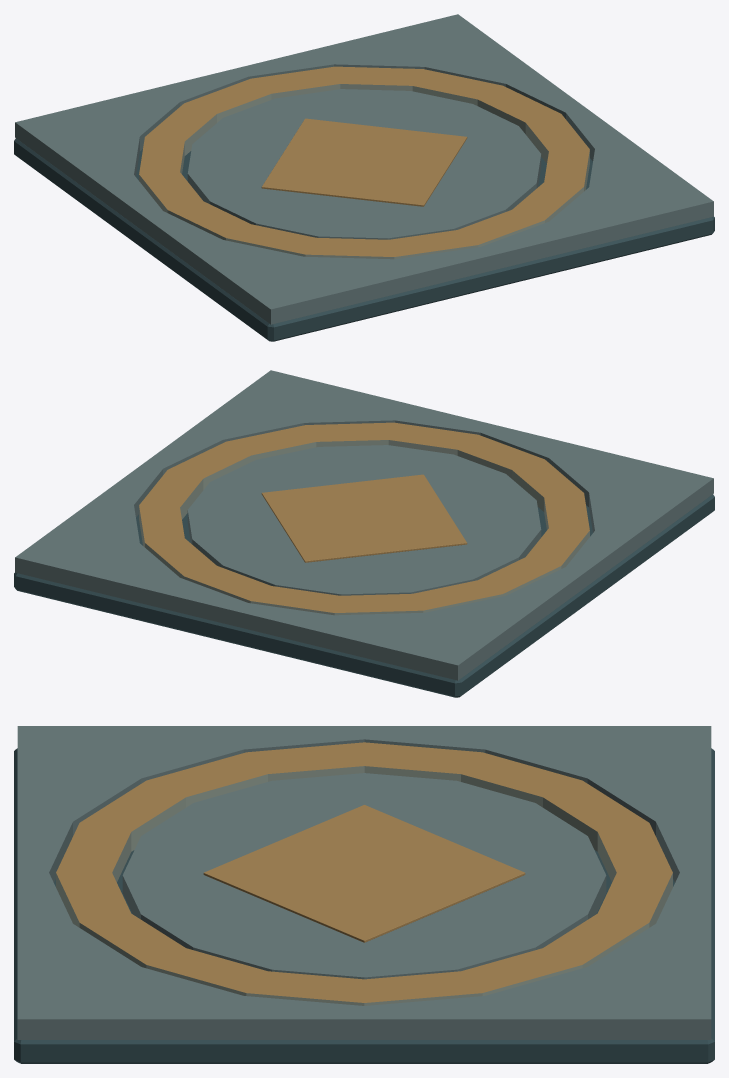
The model's file is floor-radial.glb.
The picture shows the model from 3 angles, top to bottom: view 1: azimuth 30°, elevation 25°; view 2: azimuth 150°, elevation 25°; view 3: azimuth 270°, elevation 25°; orthographic projection. The views are drawn at different scales.
Parts seen in each view (by area): view 1: floor-radial__body; view 2: floor-radial__body; view 3: floor-radial__body.
Part boxes in pixels (left/top/right/bottom): floor-radial__body: left=14, top=14, right=714, bottom=341; floor-radial__body: left=14, top=370, right=714, bottom=697; floor-radial__body: left=14, top=726, right=714, bottom=1063.
Bounding box in the file's own units: 2 × 0.14 × 2.
